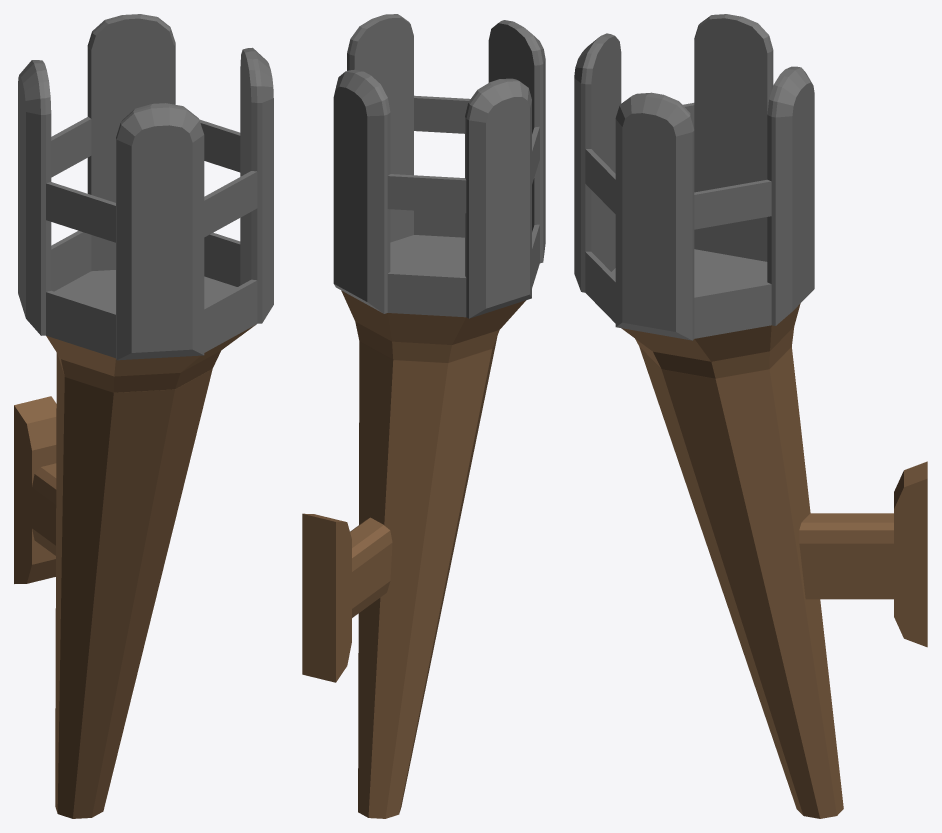
Rendered from Mounted Torch.fbx.
The picture shows the model from 3 angles, left to right: view 1: azimuth 30°, elevation 25°; view 2: azimuth 150°, elevation 25°; view 3: azimuth 270°, elevation 25°; orthographic projection. The views are drawn at different scales.
Visible parts, largest first — view 1: Mounted Torch; view 2: Mounted Torch; view 3: Mounted Torch.
Boxes of the visible parts, x1,y1,x2,y2 form: Mounted Torch: (14, 14, 273, 818); Mounted Torch: (302, 14, 545, 818); Mounted Torch: (574, 14, 927, 818).
Bounding box in the file's own units: 0.796 × 2.75 × 1.17.
